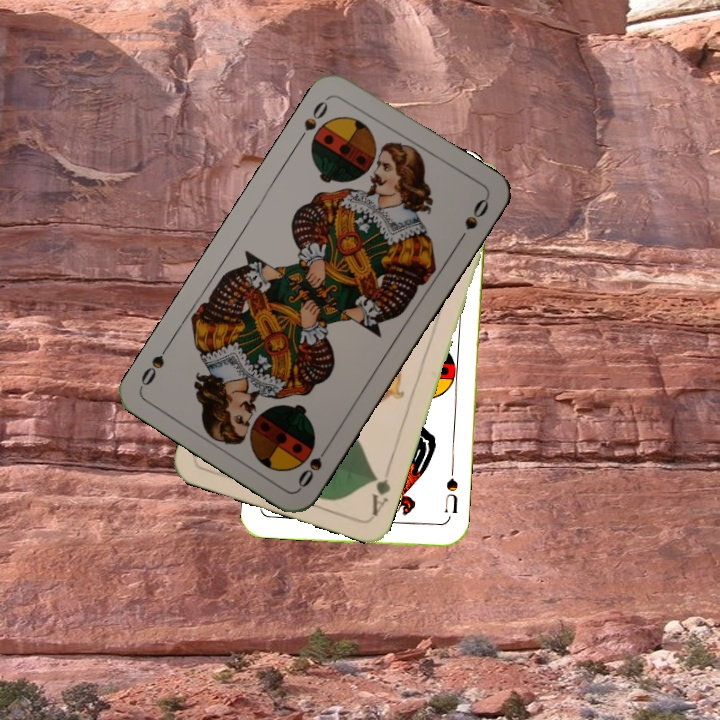GA: (367, 468, 393, 519)
SO: (293, 439, 334, 491), (293, 93, 332, 145)
SU: (440, 474, 461, 516)
